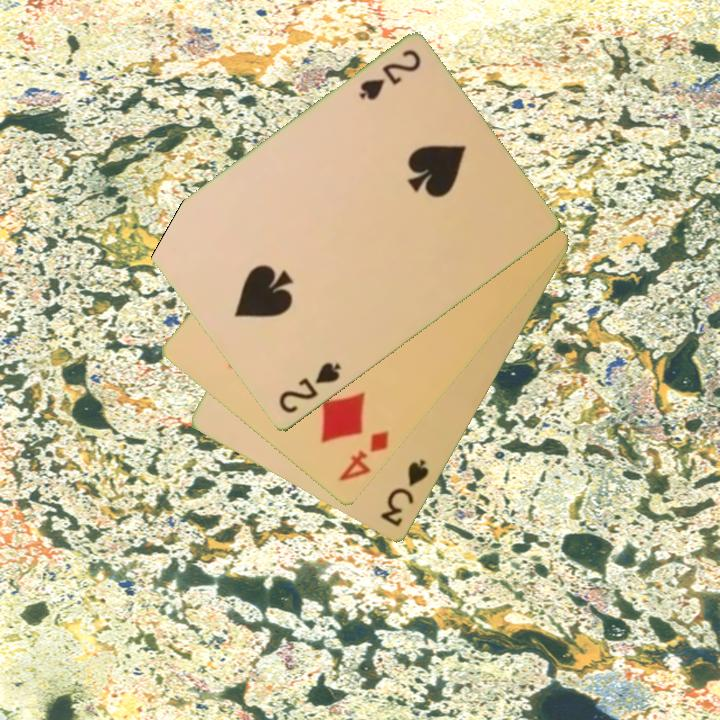2s: (275, 359, 344, 417), (355, 46, 424, 104)
3s: (377, 456, 432, 531)
4d: (334, 428, 393, 486)
